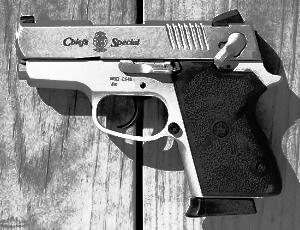handgun: (15, 5, 282, 223)
